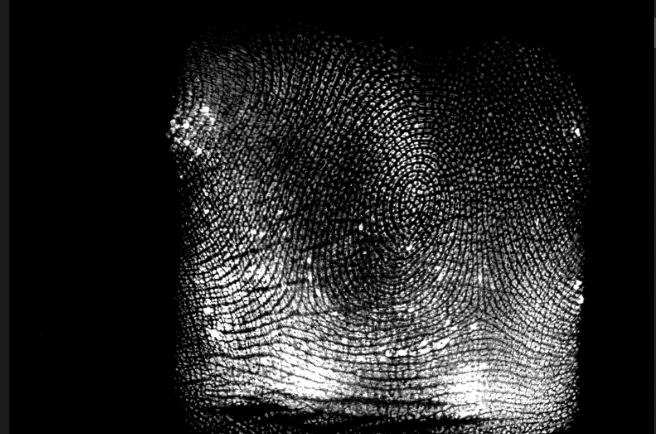nucelo: (397, 175, 425, 232)
verticilo: (281, 281, 318, 326), (462, 291, 495, 327)
